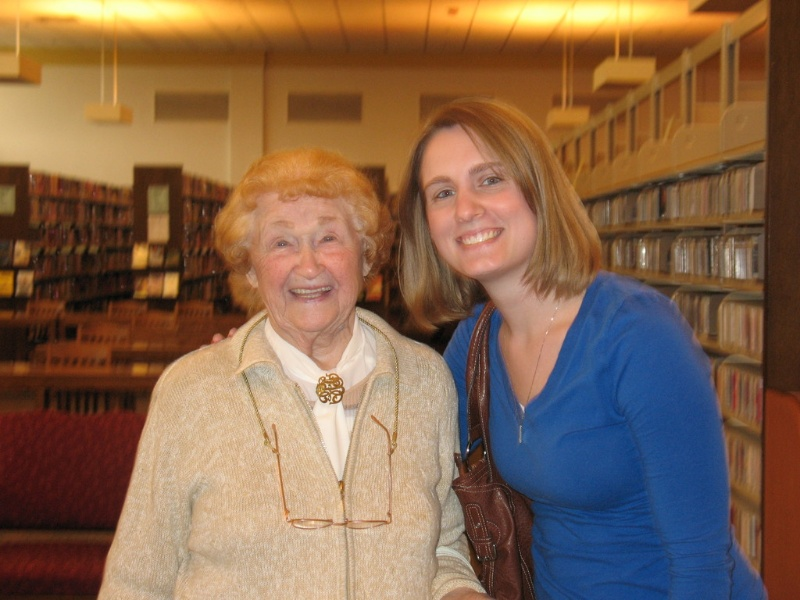book: (602, 186, 771, 282), (26, 169, 135, 300)
person: (393, 91, 739, 600), (135, 145, 461, 600)
